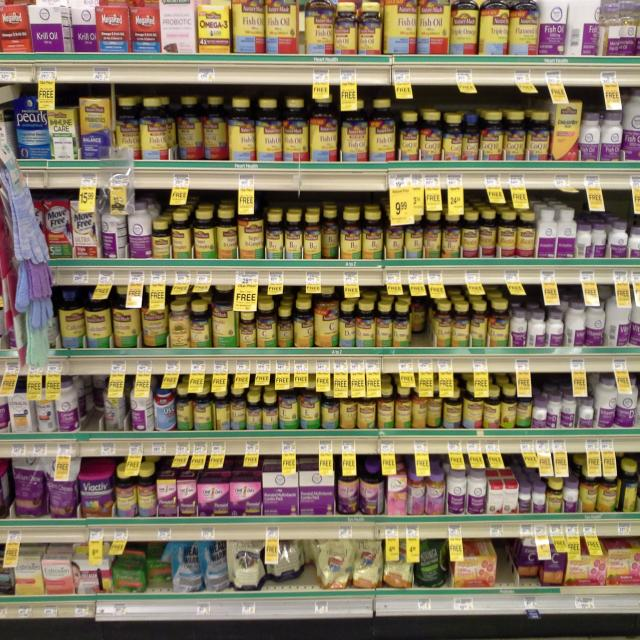unorganised: (229, 92, 338, 162), (200, 542, 319, 591), (115, 95, 176, 161), (177, 84, 228, 160), (114, 542, 172, 591), (15, 92, 49, 160), (11, 456, 46, 518), (110, 286, 142, 349), (367, 97, 396, 163), (233, 1, 266, 55), (57, 289, 86, 349), (567, 1, 599, 55), (385, 1, 416, 56), (604, 284, 631, 345), (314, 285, 340, 347), (212, 283, 237, 346), (66, 3, 98, 52), (479, 1, 508, 55), (304, 1, 333, 52), (359, 460, 384, 516), (102, 205, 127, 258), (129, 377, 154, 430), (102, 378, 126, 432), (291, 297, 315, 350), (529, 309, 562, 347), (546, 389, 577, 427), (216, 207, 239, 258), (594, 378, 617, 429), (239, 215, 265, 260), (188, 301, 213, 347), (411, 294, 432, 346), (193, 210, 215, 259), (80, 381, 101, 432), (321, 198, 338, 258), (564, 300, 586, 345), (600, 2, 619, 54), (171, 211, 192, 258), (443, 111, 461, 161), (452, 301, 472, 346), (461, 112, 479, 161), (518, 542, 539, 584), (175, 386, 194, 431), (470, 300, 488, 347), (212, 385, 230, 431), (479, 208, 496, 255), (579, 467, 597, 511), (484, 384, 501, 428), (322, 389, 340, 429), (501, 384, 516, 427), (340, 390, 356, 428), (277, 305, 291, 348), (412, 389, 427, 429), (576, 222, 592, 258), (593, 223, 606, 258)
